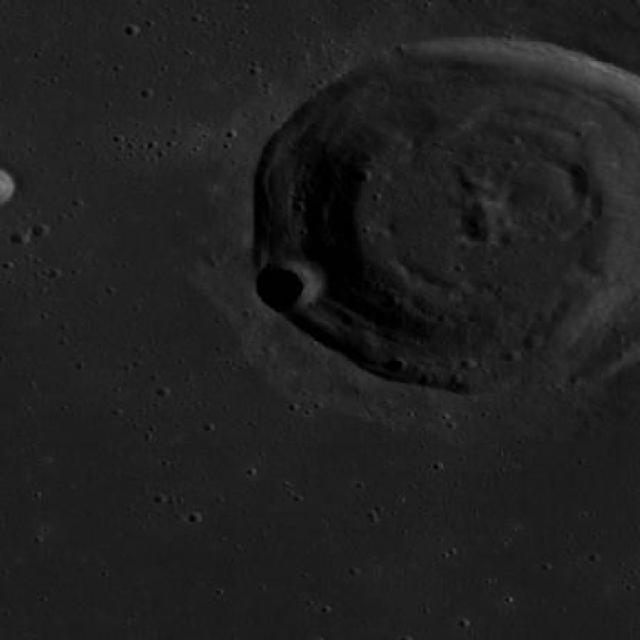crater: (253, 257, 324, 311), (10, 228, 30, 244), (0, 0, 2, 1)
